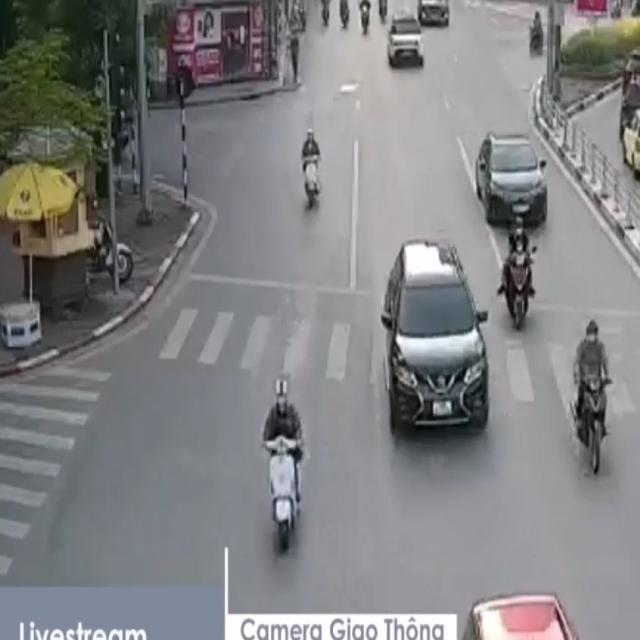car: (384, 237, 489, 428), (475, 131, 549, 228), (388, 7, 424, 70), (420, 1, 451, 29)
motorbike: (260, 376, 312, 557), (568, 320, 615, 475), (498, 216, 536, 332), (301, 128, 322, 214)
